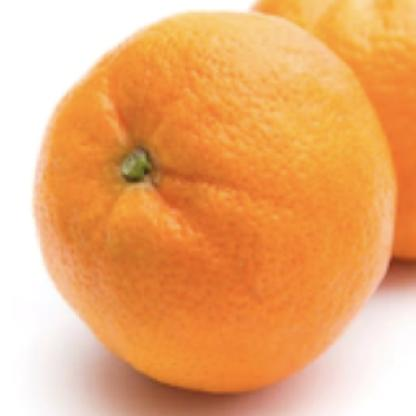fresh: (34, 9, 396, 402)
